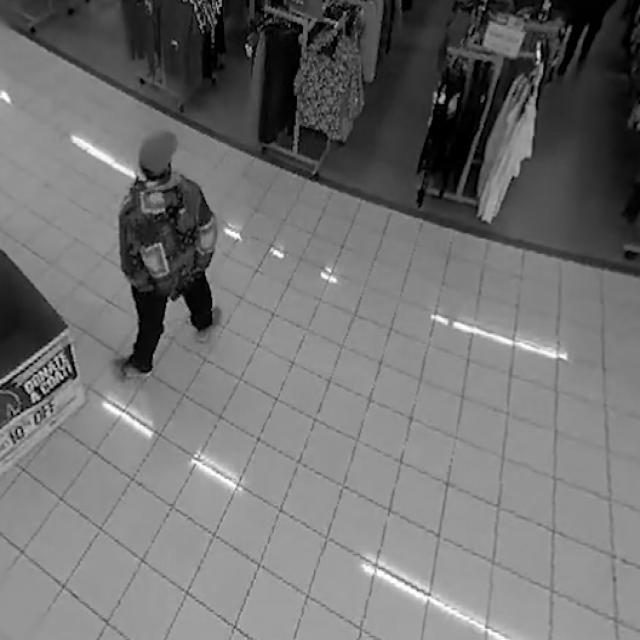Invader: (115, 128, 218, 379), (546, 0, 616, 90)
